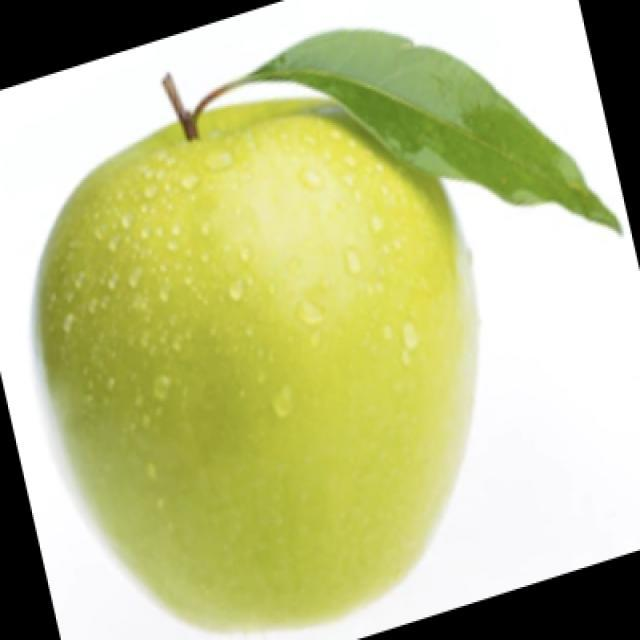Fresh Apple: (63, 105, 455, 623)
